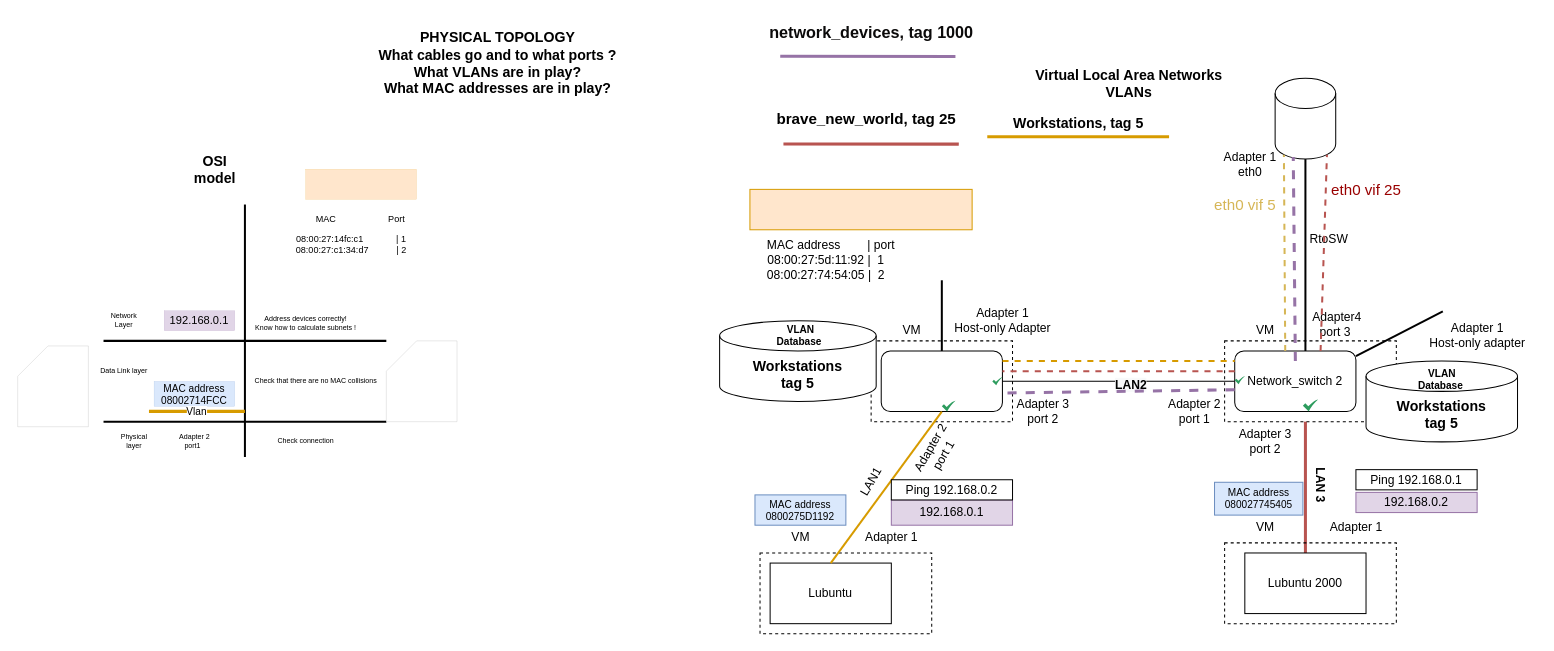
Image size: 1554x651. Some labels were removed from this diagram. Here are the shapes that lost their labels. From the top down, the centre of each, then its label:
At (1305,118): "Router".
At (360,184): "Where did these MAC addresses come form?".
At (860,209): "MAC address table or Forwarding Database or FDB".
At (52,385): "Physical topology".
At (421,380): "Logical topology".
At (941,381): "Switch 1".
